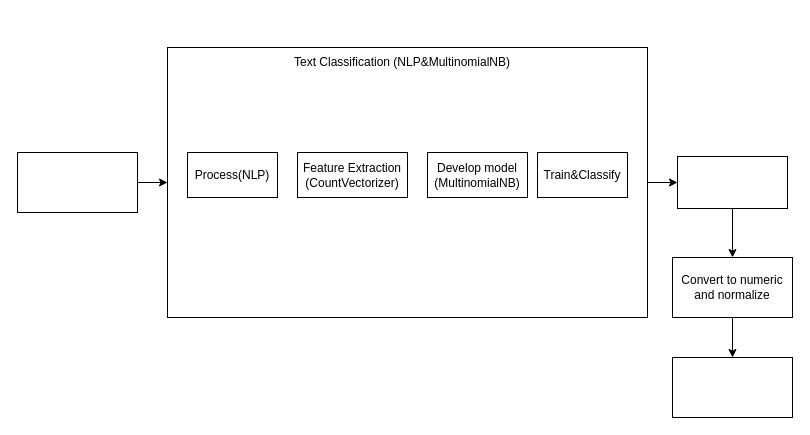
Some shapes in this 810 by 435 pixel diagram are drawn without their labels. Here are the shapes that lost their labels. From the top down, the box of each, then its label:
(16, 152, 138, 212): Text (INPUT)
(676, 156, 788, 208): Output
(672, 356, 792, 418): Update Engine
